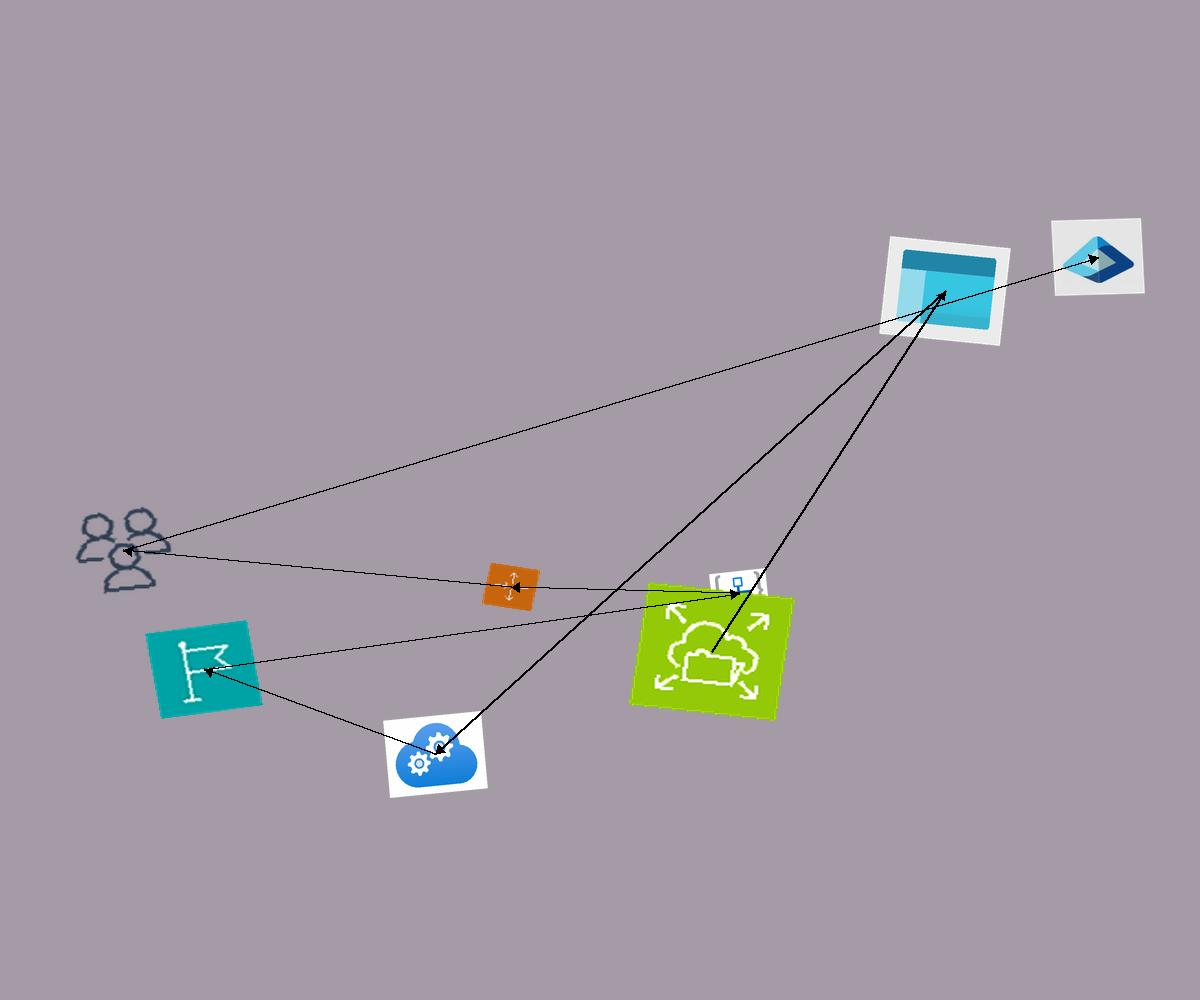AWS-EFS: (629, 582, 795, 721)
AWS-Region: (145, 620, 263, 719)
AWS-Res_Users: (63, 500, 184, 601)
AWS-Scaling-group: (481, 562, 541, 612)
Azure_cloud_services: (383, 711, 488, 798)
Azure_integration-204-Logic-Apps: (709, 568, 770, 619)
Azure_management-portal: (879, 236, 1011, 346)
Azure_microsoft_entra: (1051, 218, 1145, 296)
